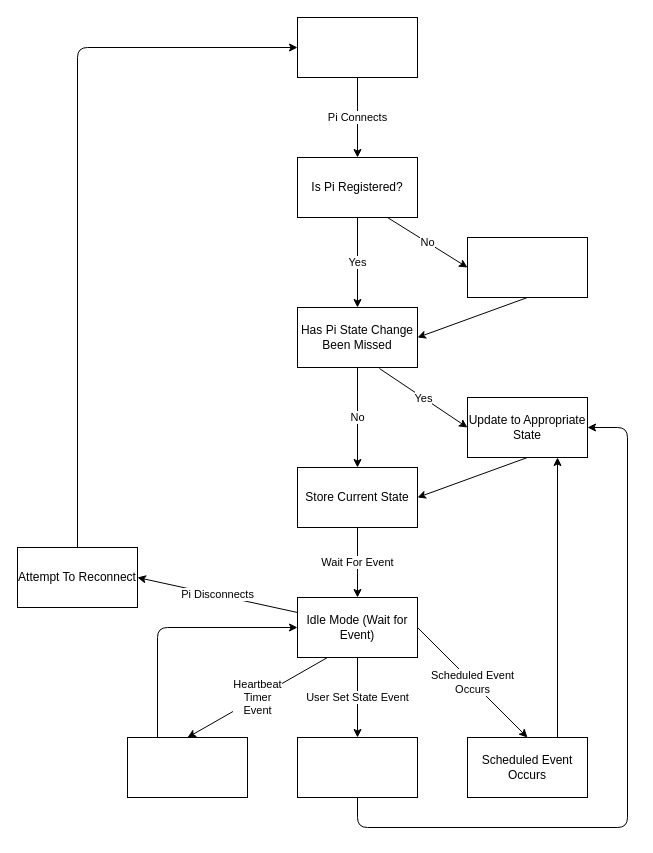
The diagram is 653 pixels wide and 853 high, and some of its shapes have lost their labels. Each missing label, with the centre of its shape:
Heartbeat Event: [187,767]
Register Pi: [527,267]
Start State: [357,47]
User Sets State: [357,767]
